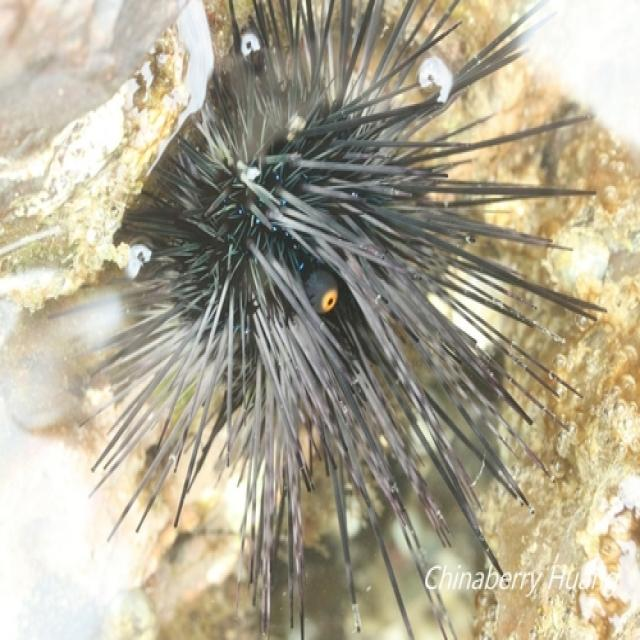Urchin: (110, 12, 608, 621)
